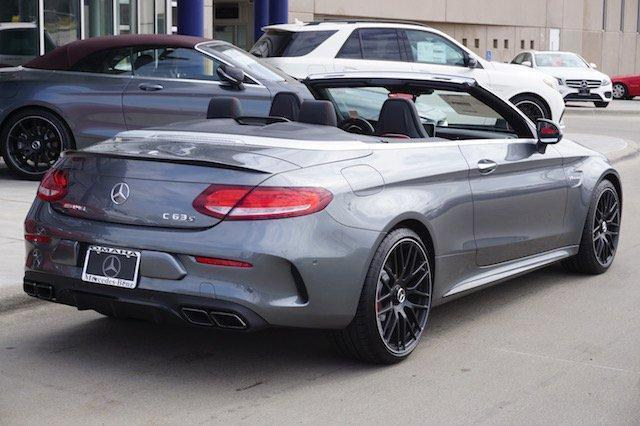C63AMG: (20, 72, 626, 365)
